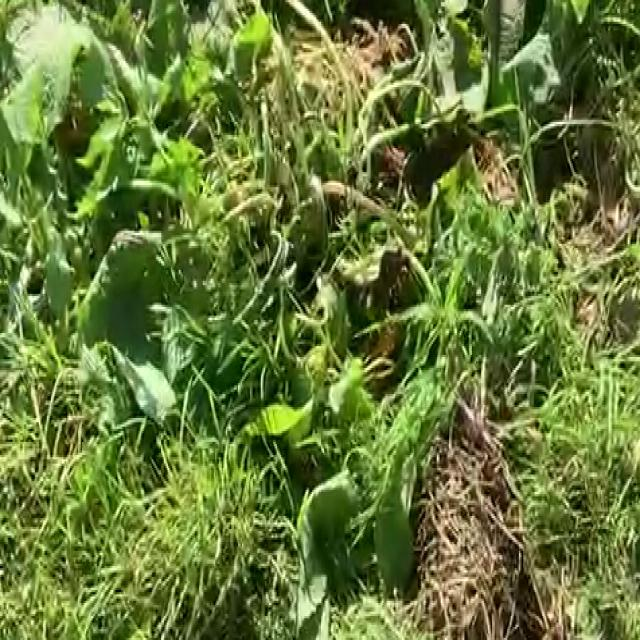organic waste: (266, 238, 507, 596), (78, 113, 324, 383)
